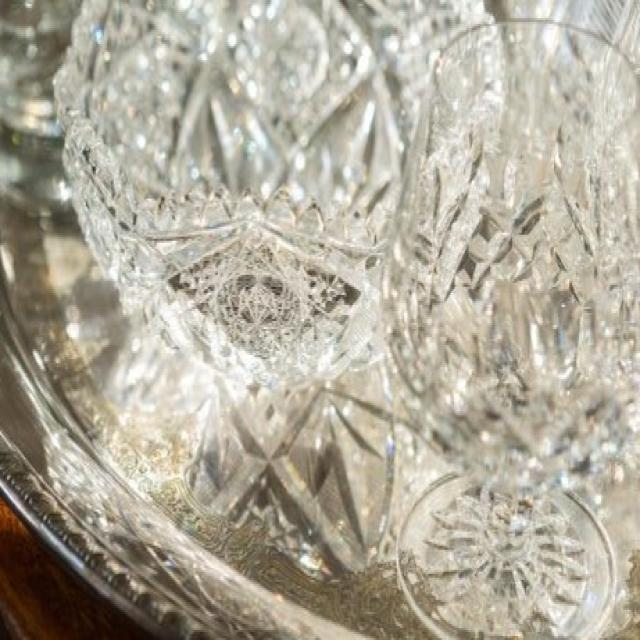electronic: (55, 0, 505, 387), (393, 22, 638, 640)
